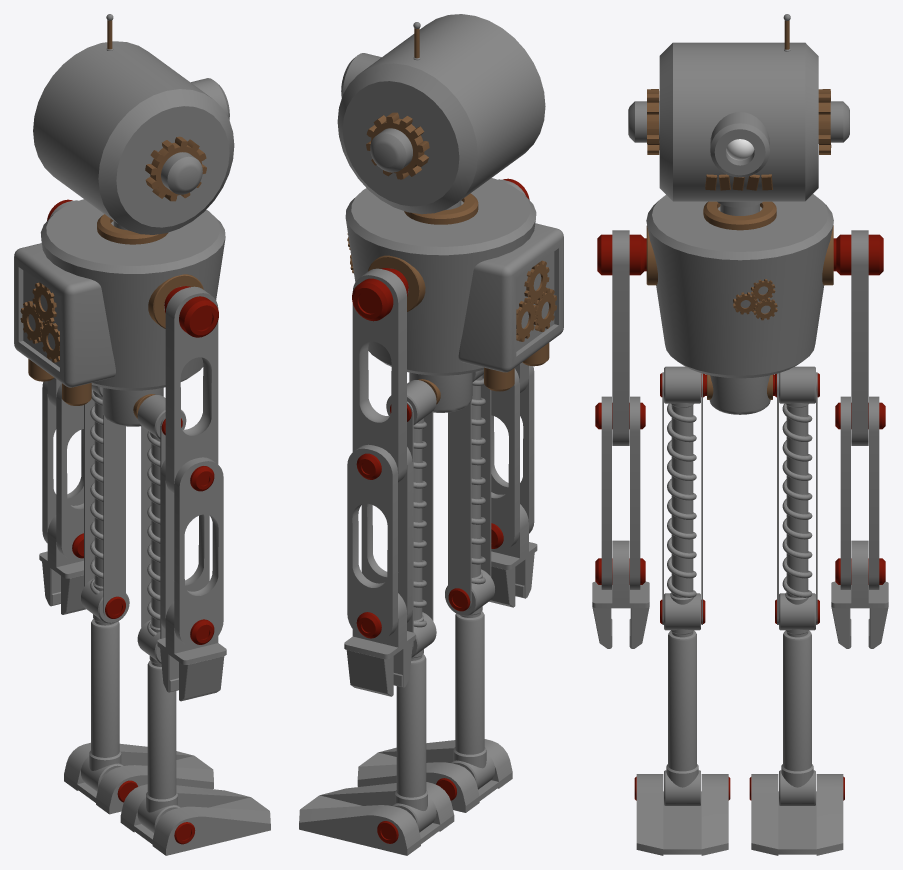
Rendered from Robo.fbx.
3 views of the same model, side by side, from view 1: azimuth 30°, elevation 25°; view 2: azimuth 150°, elevation 25°; view 3: azimuth 270°, elevation 25° (orthographic). The views are drawn at different scales.
Parts seen in each view (by area): view 1: Torso_1, Cabeca_1, BracoDir_1, PernaEsq_1, PernaDir_1, BracoEsq_1; view 2: Torso_1, Cabeca_1, BracoEsq_1, PernaDir_1, PernaEsq_1, BracoDir_1; view 3: Torso_1, Cabeca_1, PernaDir_1, PernaEsq_1, BracoEsq_1, BracoDir_1.
Boxes of the visible parts, x1=… form: Torso_1: x1=14, y1=199, x2=225, y2=426; Cabeca_1: x1=33, y1=14, x2=234, y2=234; BracoDir_1: x1=157, y1=286, x2=226, y2=701; PernaEsq_1: x1=64, y1=385, x2=213, y2=814; PernaDir_1: x1=120, y1=395, x2=270, y2=855; BracoEsq_1: x1=39, y1=199, x2=85, y2=614; Torso_1: x1=345, y1=178, x2=563, y2=412; Cabeca_1: x1=337, y1=14, x2=545, y2=214; BracoEsq_1: x1=344, y1=268, x2=415, y2=696; PernaDir_1: x1=357, y1=369, x2=512, y2=812; PernaEsq_1: x1=299, y1=380, x2=454, y2=855; BracoDir_1: x1=489, y1=178, x2=537, y2=607; Torso_1: x1=646, y1=194, x2=833, y2=414; Cabeca_1: x1=628, y1=14, x2=849, y2=215; PernaDir_1: x1=634, y1=366, x2=730, y2=855; PernaEsq_1: x1=749, y1=366, x2=844, y2=855; BracoEsq_1: x1=831, y1=230, x2=888, y2=648; BracoDir_1: x1=592, y1=230, x2=649, y2=648.
Size of the model in its own units: 393 by 1524 by 517.
